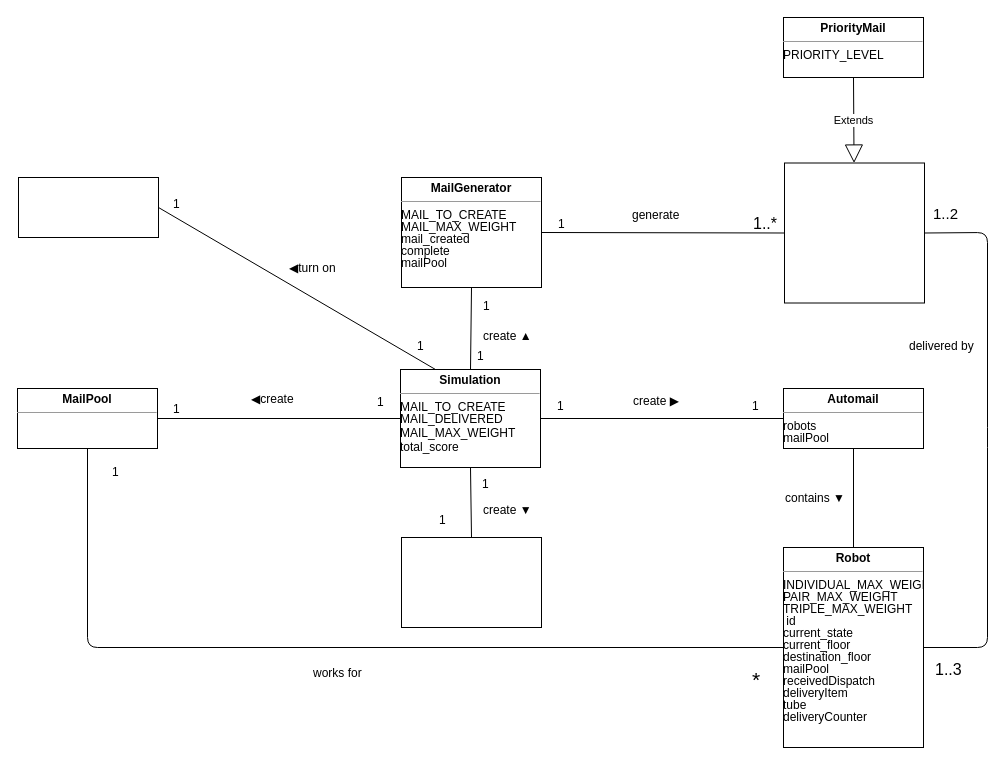
The diagram is 1006 pixels wide and 765 high, and some of its shapes have lost their labels. The shapes that lost their labels are listed below. From the top down, each one's box as (x1, y1, x2, y2) in pixels, then its label:
(18, 176, 158, 238): Clock time LAST_DELIVERY_TIME
(784, 162, 924, 303): MailItem id Destination_floor arrival_time weight
(400, 536, 542, 628): Bilding FLOORS LOWEST_FLOOR MAILROOM_LOCATION
